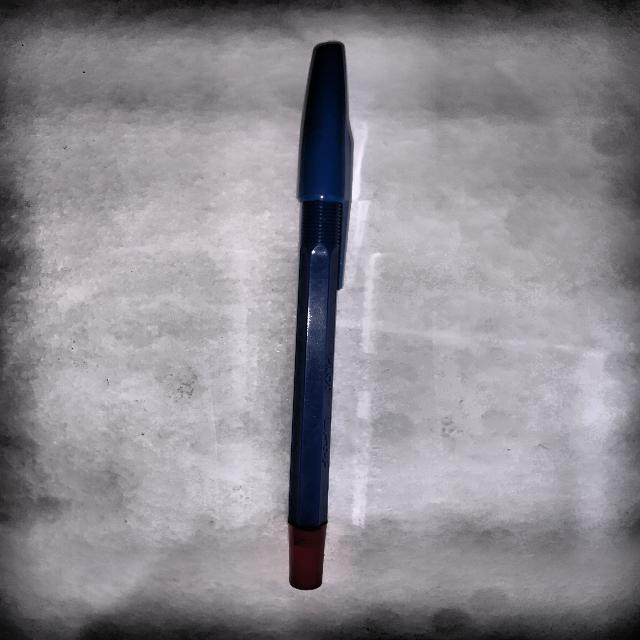Pulpen: (269, 29, 376, 616)
